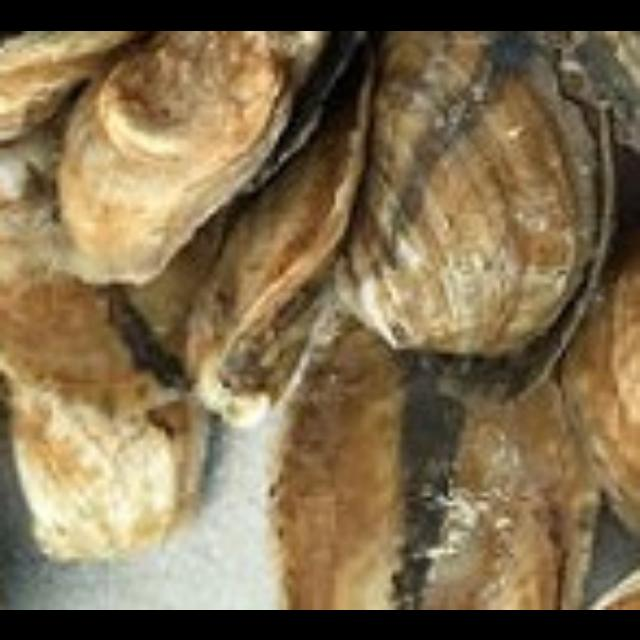Oyster-Closed: (268, 301, 601, 605), (332, 30, 600, 357), (46, 30, 321, 281), (189, 72, 371, 427), (16, 383, 211, 559), (560, 266, 636, 544), (0, 30, 138, 141), (578, 561, 636, 605)
Oyster-Open: (0, 192, 219, 417)
